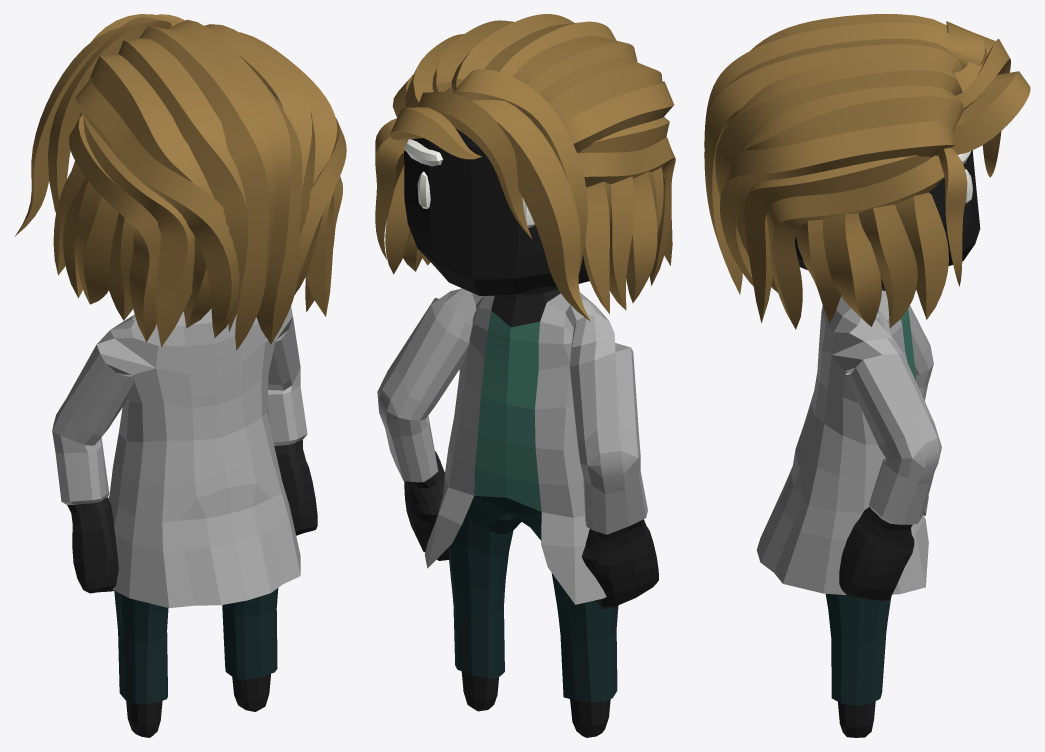
File: Moun_Doctor_Female_Young_Stand.fbx
The picture shows the model from 3 angles, left to right: view 1: azimuth 30°, elevation 25°; view 2: azimuth 150°, elevation 25°; view 3: azimuth 270°, elevation 25°; orthographic projection. The views are drawn at different scales.
Parts seen in each view (by area): view 1: Moun_Doctor_Female_Young_Stand; view 2: Moun_Doctor_Female_Young_Stand; view 3: Moun_Doctor_Female_Young_Stand.
Boxes of the visible parts, <box> form: Moun_Doctor_Female_Young_Stand: <box>15,14,346,737</box>; Moun_Doctor_Female_Young_Stand: <box>375,14,675,737</box>; Moun_Doctor_Female_Young_Stand: <box>704,14,1030,737</box>.
Bounding box in the file's own units: 0.6515 × 1.67 × 0.7232.
